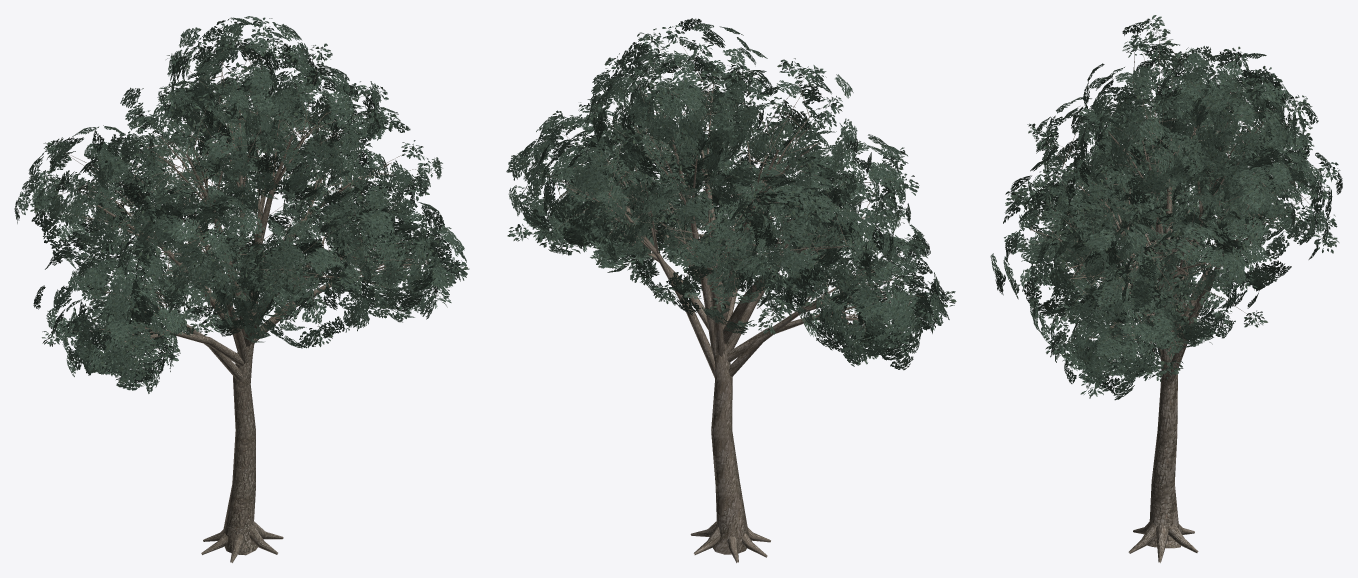
Rendered from station-broadleaf.glb.
The picture shows the model from 3 angles, left to right: view 1: azimuth 30°, elevation 25°; view 2: azimuth 150°, elevation 25°; view 3: azimuth 270°, elevation 25°; orthographic projection. The views are drawn at different scales.
Parts seen in each view (by area): view 1: 1120 small bent 3D twig-cluster patches, 13440 individually bent small donor leaves, Inferred trunk primary branches and twigs; view 2: 1120 small bent 3D twig-cluster patches, 13440 individually bent small donor leaves, Inferred trunk primary branches and twigs; view 3: 1120 small bent 3D twig-cluster patches, 13440 individually bent small donor leaves, Inferred trunk primary branches and twigs.
Part boxes in pixels (x1,y1,x2,y2): 1120 small bent 3D twig-cluster patches: (14,16,466,393); 13440 individually bent small donor leaves: (30,17,469,389); Inferred trunk primary branches and twigs: (49,34,451,562); 1120 small bent 3D twig-cluster patches: (506,18,949,370); 13440 individually bent small donor leaves: (507,24,956,365); Inferred trunk primary branches and twigs: (522,42,939,562); 1120 small bent 3D twig-cluster patches: (990,22,1342,400); 13440 individually bent small donor leaves: (1005,15,1340,398); Inferred trunk primary branches and twigs: (1022,26,1326,562).
Size of the model in its own units: 12.25 by 14.77 by 9.43.
3 materials, 3 textured.
